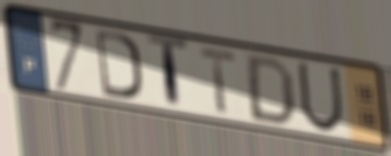7: (49, 16, 88, 95)
D: (93, 26, 144, 103), (246, 52, 296, 128)
T: (145, 32, 190, 114), (196, 45, 240, 116)
U: (295, 60, 345, 134)
